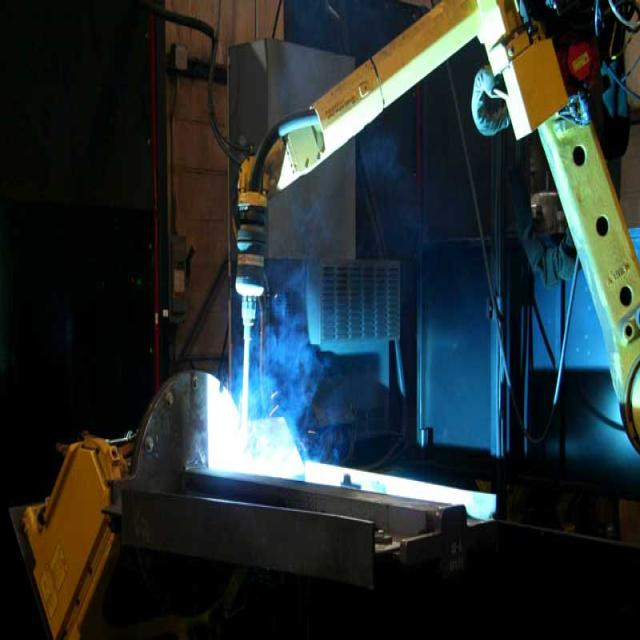welding: (223, 440, 255, 473)
